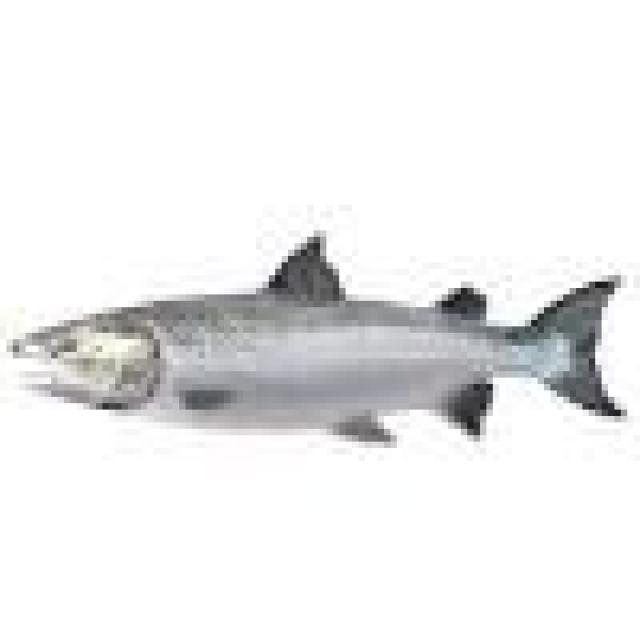Fourfinger-Threadfin: (0, 230, 640, 500)
